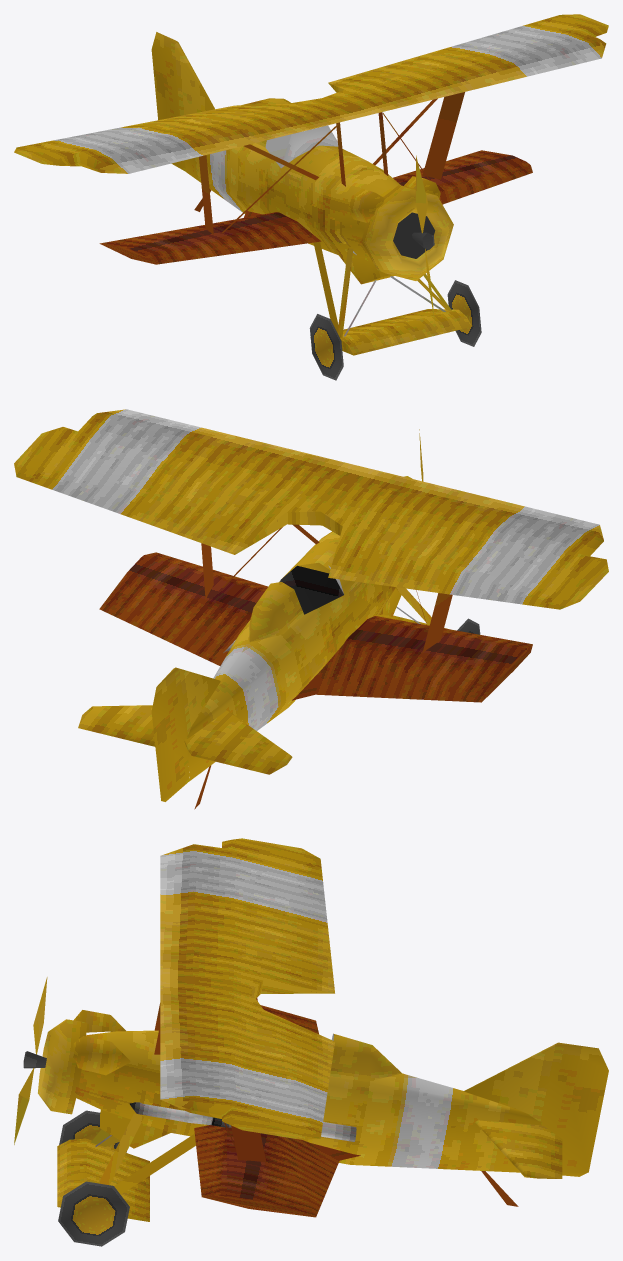
File: ps2_save-icons_skyodyssey.glb
3 views of the same model, one above another, from view 1: azimuth 30°, elevation 25°; view 2: azimuth 150°, elevation 25°; view 3: azimuth 270°, elevation 25° (orthographic). The views are drawn at different scales.
Parts seen in each view (by area): view 1: sky1.ico; view 2: sky1.ico; view 3: sky1.ico.
Boxes of the visible parts, x1,y1,x2,y2 form: sky1.ico: (14,14,608,380); sky1.ico: (14,409,608,809); sky1.ico: (14,838,608,1246).
Bounding box in the file's own units: 4.94 × 1.88 × 4.25.
1 material, 1 textured.
